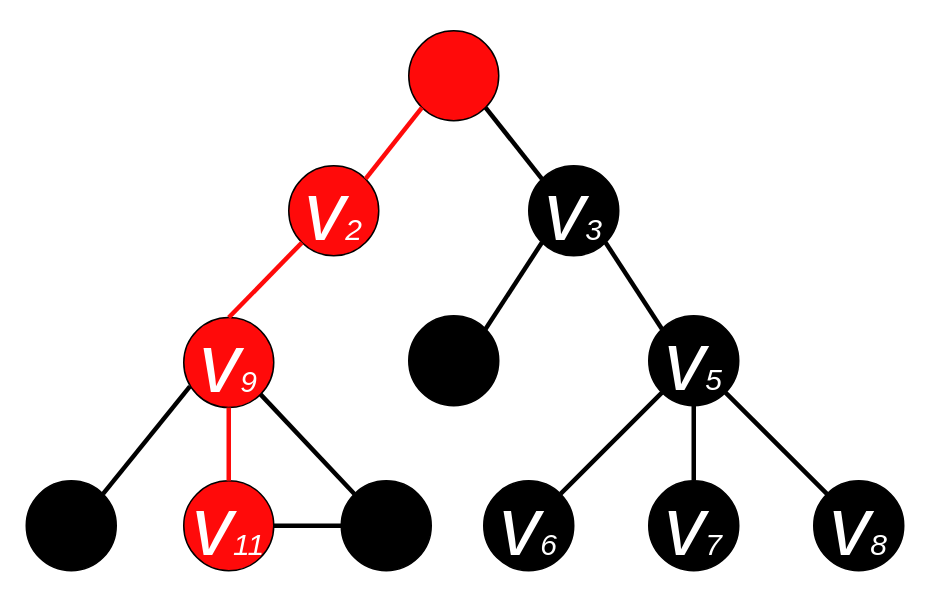
This 930x602 diagram has some shape labels left out. The shapes that lost their labels are listed below. From the top down, each one's centre as x and y in pixels, then its label:
At [453,75]: "v 1".
At [453,360]: "v 4".
At [70,525]: "v 10".
At [385,525]: "v 12".
